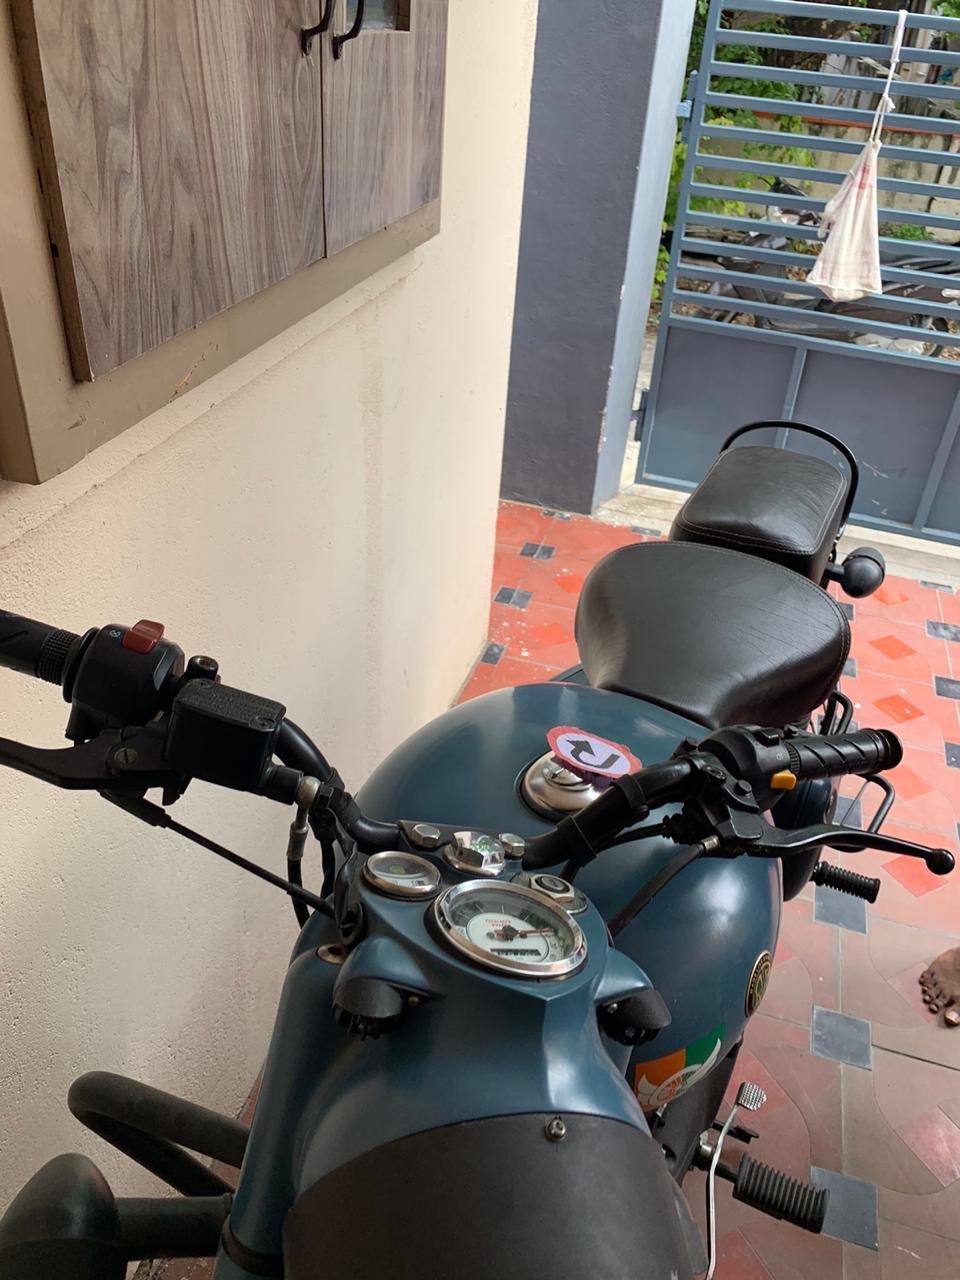U-TURN: (556, 706, 663, 788)
